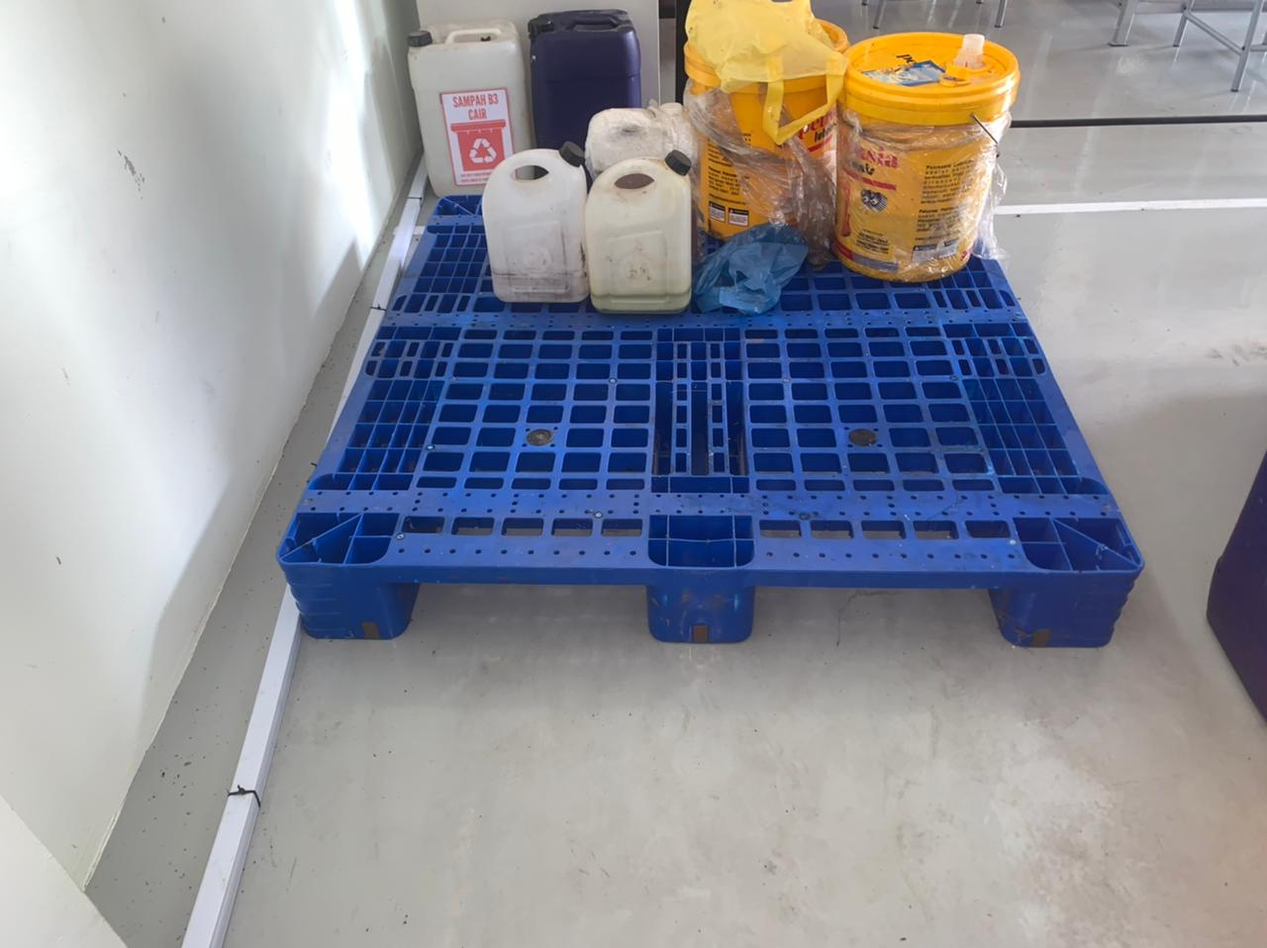block: (1014, 566, 1147, 652), (279, 559, 405, 635), (649, 567, 758, 642)
front: (282, 566, 1142, 653)
hole pallet: (749, 588, 1020, 644), (396, 583, 647, 630)
